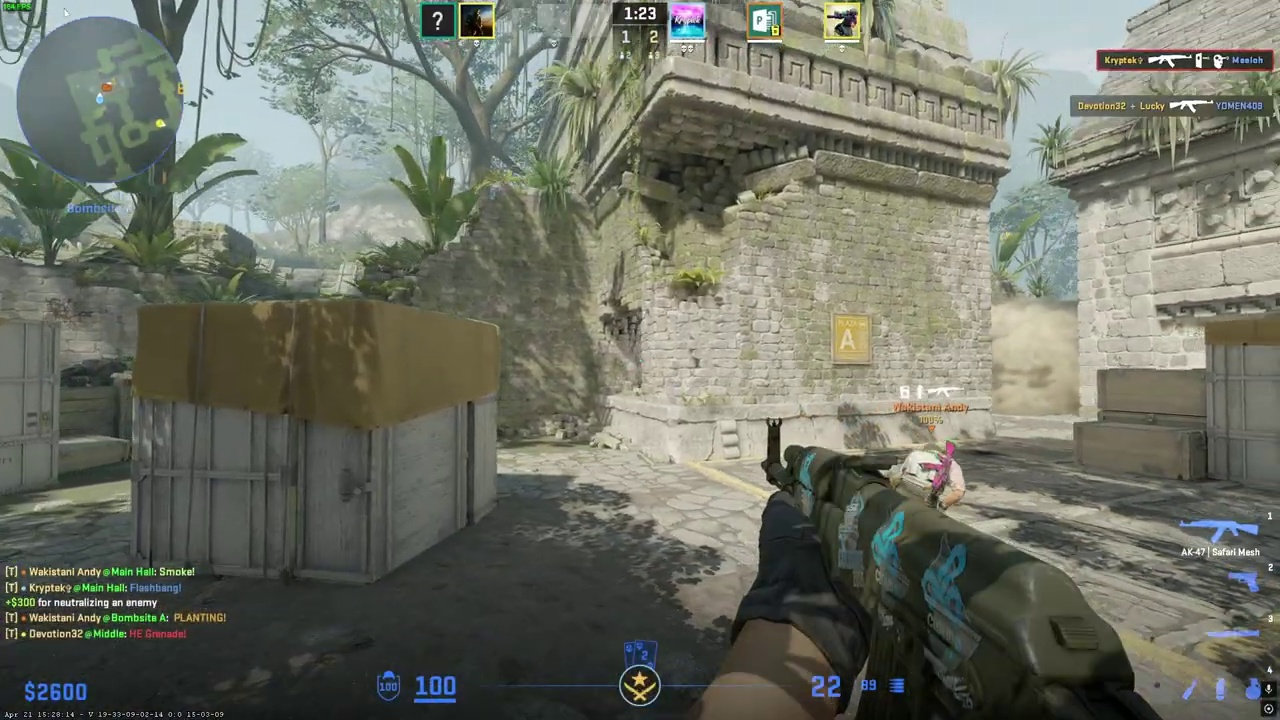Terrorist: (893, 443, 965, 510)
